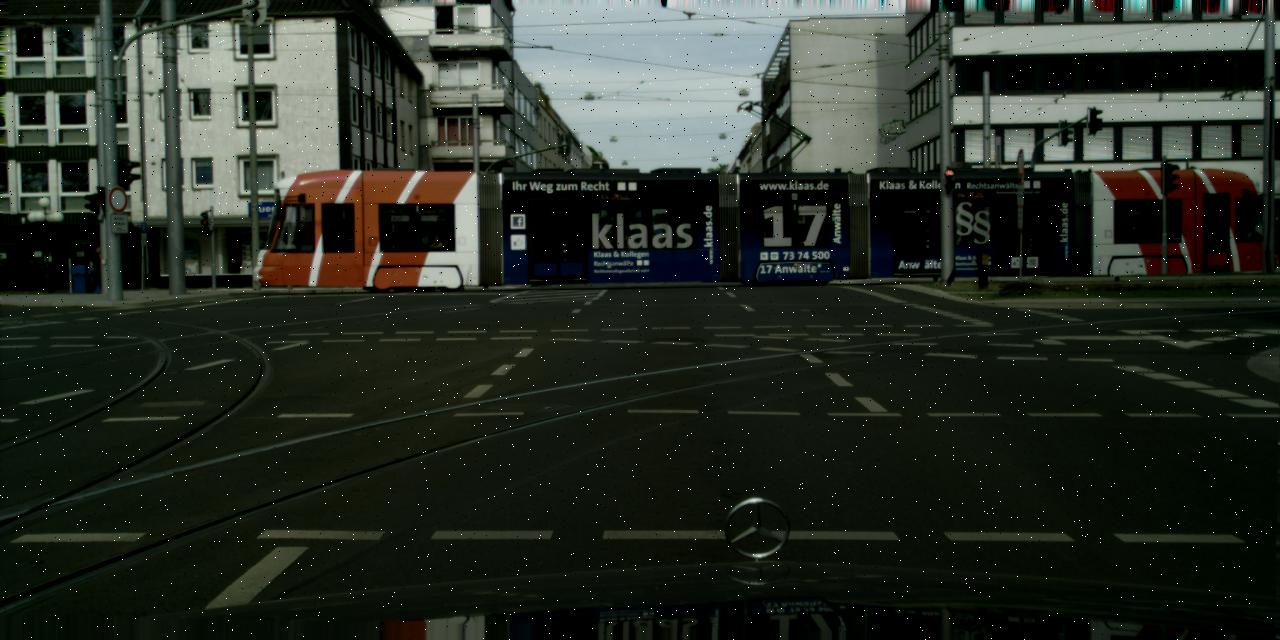ped: (88, 245, 108, 294)
